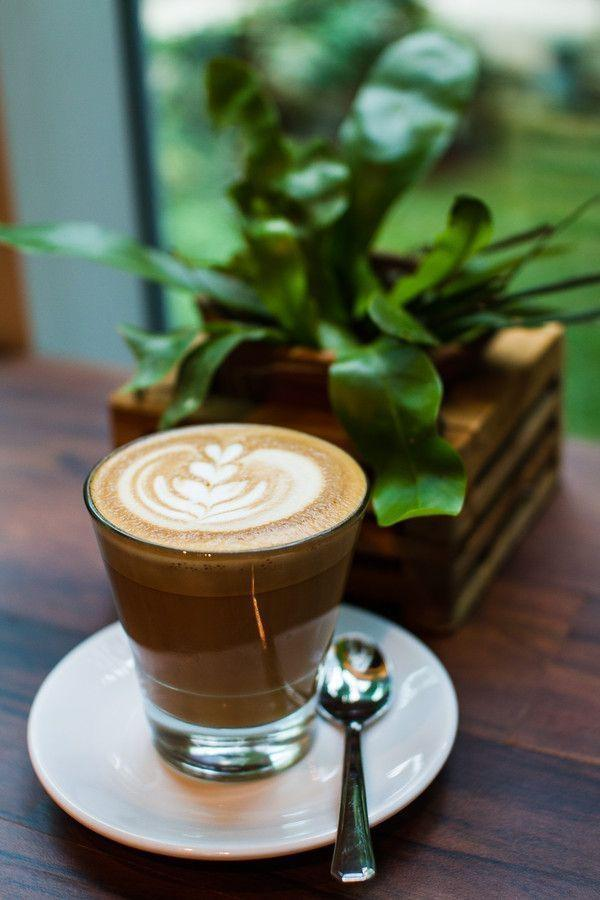glass-normal: (78, 420, 371, 781)
